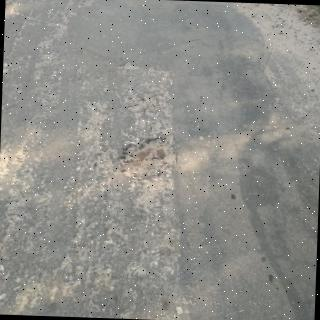pothole: (118, 137, 177, 179)
